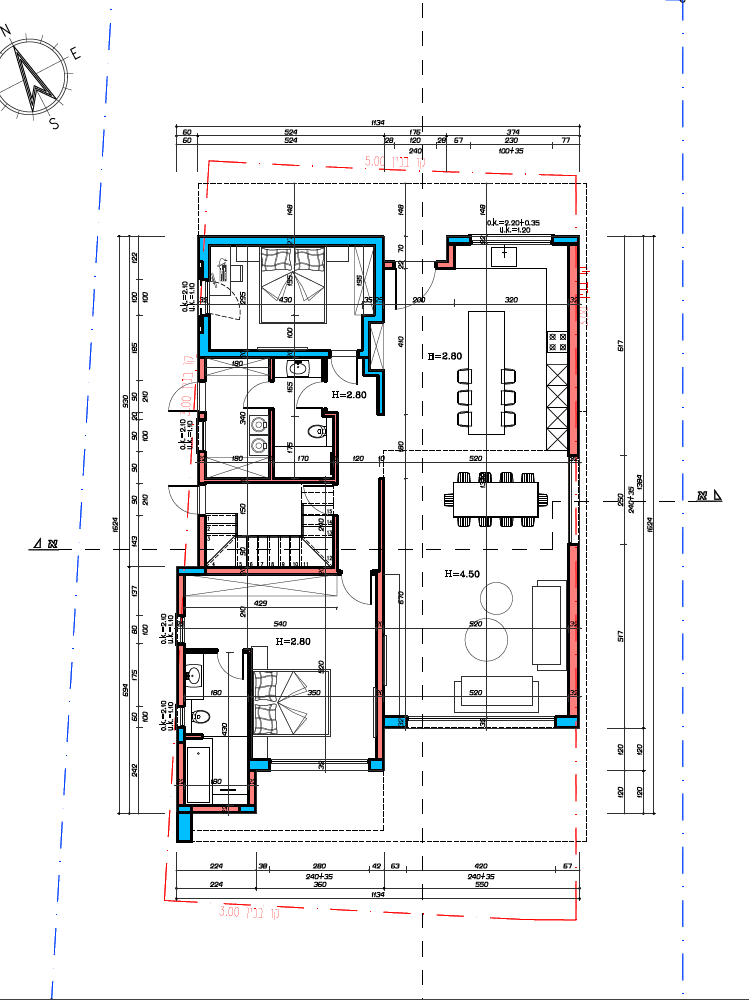door: (337, 576, 373, 610), (327, 357, 363, 391), (161, 478, 197, 512)
